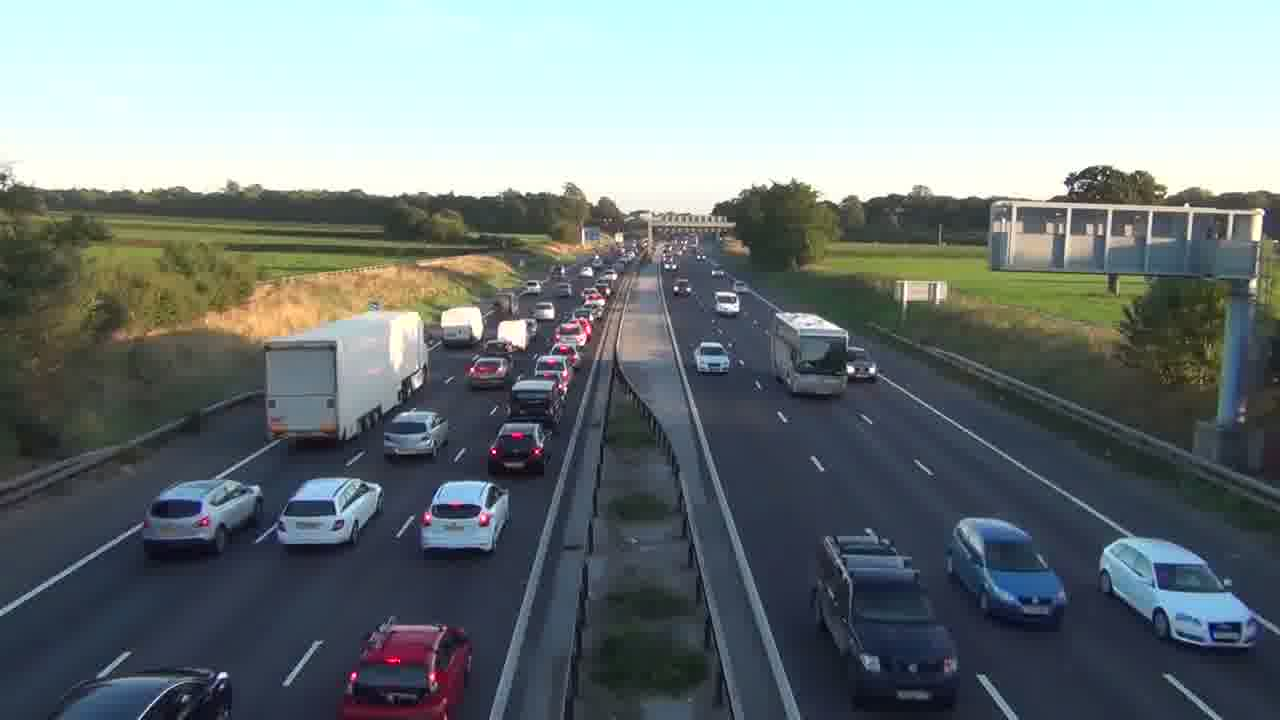bus: (771, 310, 850, 396)
car: (1097, 535, 1260, 655), (944, 516, 1070, 629), (336, 617, 474, 720), (142, 478, 263, 559), (53, 667, 233, 719), (276, 476, 384, 550), (418, 479, 512, 556), (382, 409, 450, 460), (487, 421, 548, 474), (509, 377, 563, 426), (465, 353, 514, 390), (693, 340, 731, 374)
truck: (264, 309, 429, 445), (439, 305, 485, 347)
